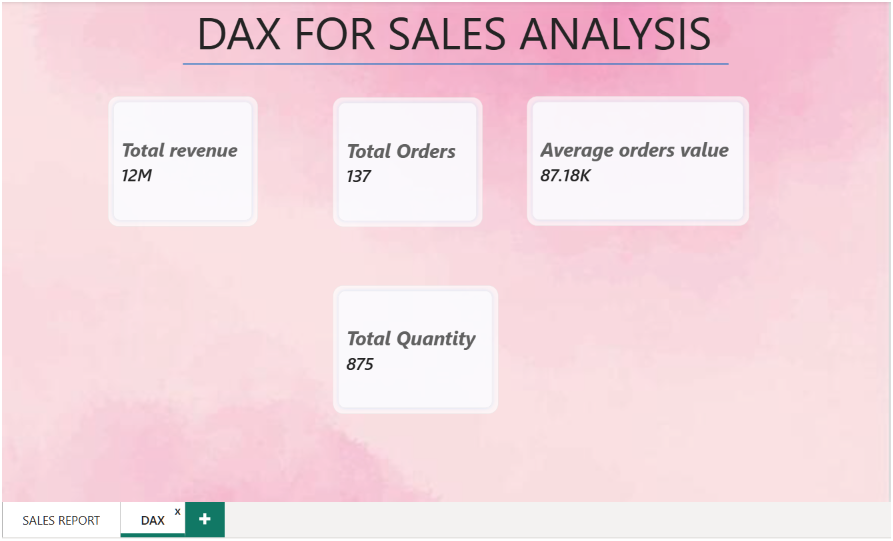

What the dashboard file says about the page in this screenshot:
{"tool":"powerbi","page":{"name":"DAX","canvas":[1920,1080],"ordinal":1},"visuals":[{"type":"cardVisual","fields":{"Data":["processed_sales_data.Total revenue"]},"box":[237.3,204.9,323.6,280.4],"z":0},{"type":"cardVisual","fields":{"Data":["processed_sales_data.Total Quantity"]},"box":[722.3,613.3,356.6,277.1],"z":1000},{"type":"cardVisual","fields":{"Data":["processed_sales_data.Average orders value"]},"box":[1140.2,204.4,479.2,279.4],"z":2000},{"type":"cardVisual","fields":{"Data":["processed_sales_data.Total Orders","processed_sales_data.Total Orders"]},"box":[722.3,206.7,322.5,279.4],"z":3000},{"type":"textbox","box":[427,0,1149.3,204.4],"z":3001},{"type":"shape","box":[399.8,0,1176.5,270.3],"z":3002}]}

Visuals, with their boxes on the page's 1920x1080 design canvas (x1, y1, x2, y2). These are canvas units, not pixel positions in the 893x541 screenshot, which may show the page scaled, cropped or inside an application window:
cardVisual - processed_sales_data.Total revenue: bbox=[237, 205, 561, 485]
cardVisual - processed_sales_data.Total Quantity: bbox=[722, 613, 1079, 890]
cardVisual - processed_sales_data.Average orders value: bbox=[1140, 204, 1619, 484]
cardVisual - processed_sales_data.Total Orders x processed_sales_data.Total Orders: bbox=[722, 207, 1045, 486]
textbox: bbox=[427, 0, 1576, 204]
shape: bbox=[400, 0, 1576, 270]
